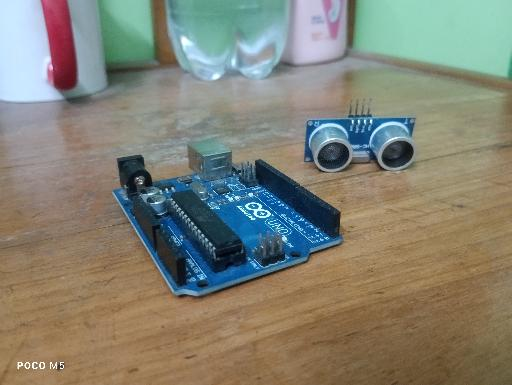Arduino: (113, 138, 343, 297)
sensor: (304, 98, 416, 172)
